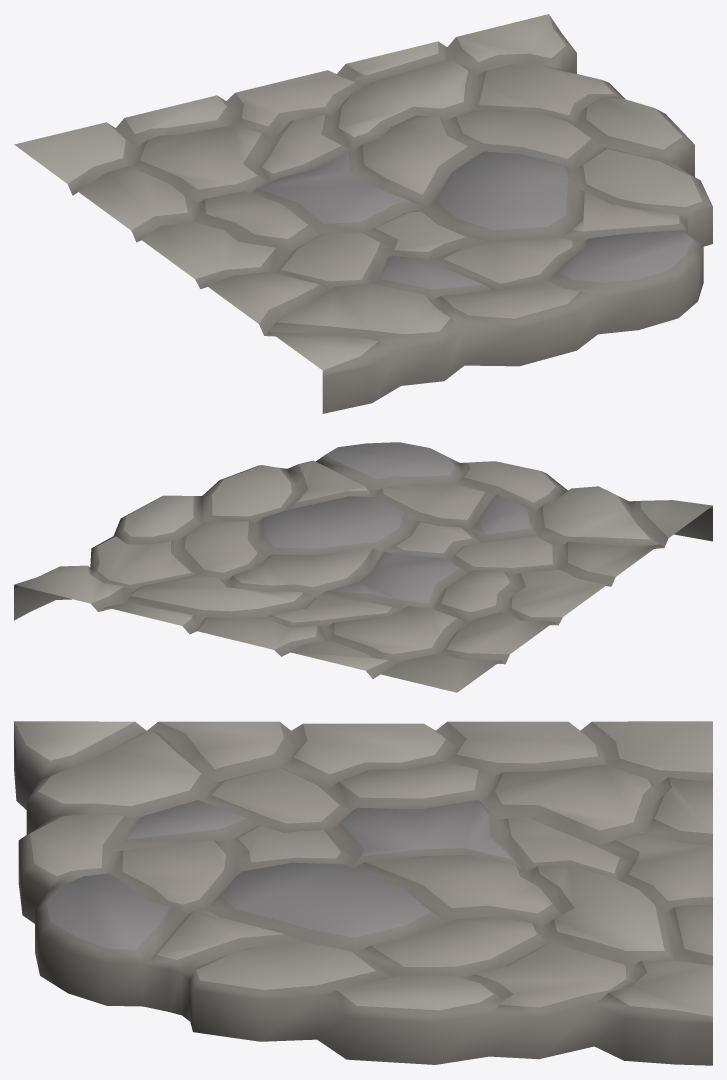
Rendered from rpgpp_ag_floor_03a_3x3_ext_02_right.fbx.
The picture shows the model from 3 angles, top to bottom: view 1: azimuth 30°, elevation 25°; view 2: azimuth 150°, elevation 25°; view 3: azimuth 270°, elevation 25°; orthographic projection. The views are drawn at different scales.
Parts seen in each view (by area): view 1: rpgpp_ag_floor_03a_3x3_ext_02_right; view 2: rpgpp_ag_floor_03a_3x3_ext_02_right; view 3: rpgpp_ag_floor_03a_3x3_ext_02_right.
Boxes of the visible parts, x1=… form: rpgpp_ag_floor_03a_3x3_ext_02_right: x1=14, y1=14, x2=712, y2=413; rpgpp_ag_floor_03a_3x3_ext_02_right: x1=14, y1=442, x2=712, y2=692; rpgpp_ag_floor_03a_3x3_ext_02_right: x1=14, y1=721, x2=712, y2=1065.
Bounding box in the file's own units: 3 × 0.245 × 3.
